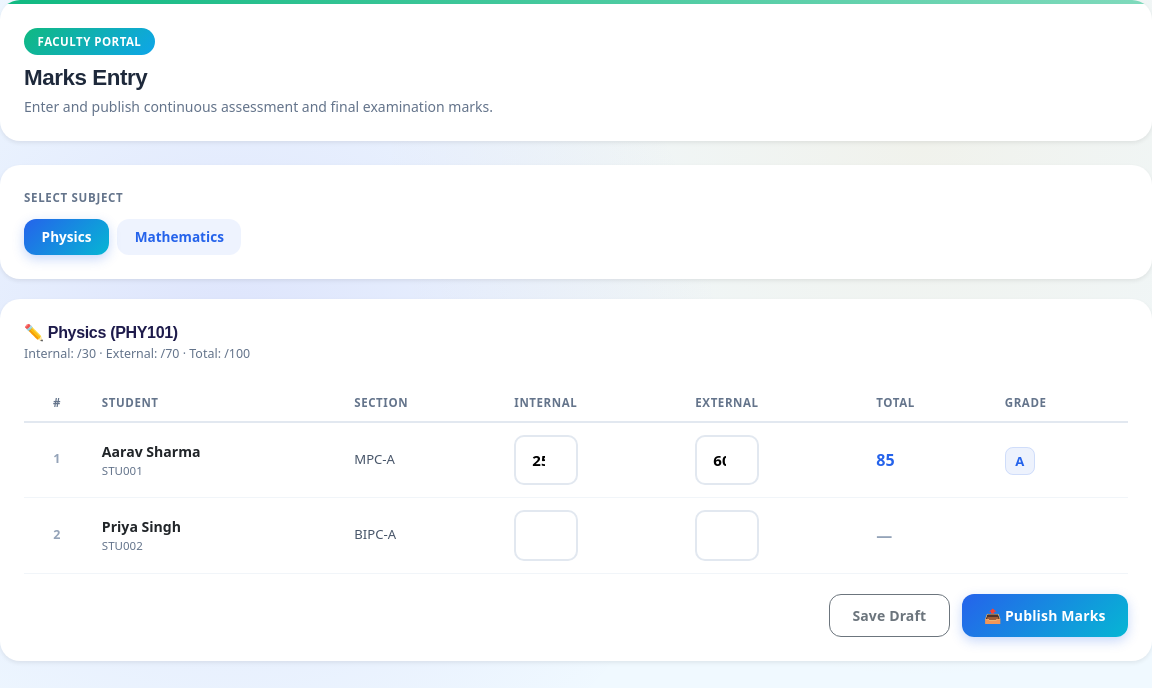
Test case: MarksEntry Component (Tier A Verified Flow) › saves marks draft via POST API
This screenshot has width=1152, height=688.
Expected: the table with test id "marks-table" is shown, 24,384 -> 1128,574
// Edit marks for Priya Singh
Type "28" into the number field named "Internal marks for Priya Singh". click: (546, 535)
box: 514,510 -> 578,560
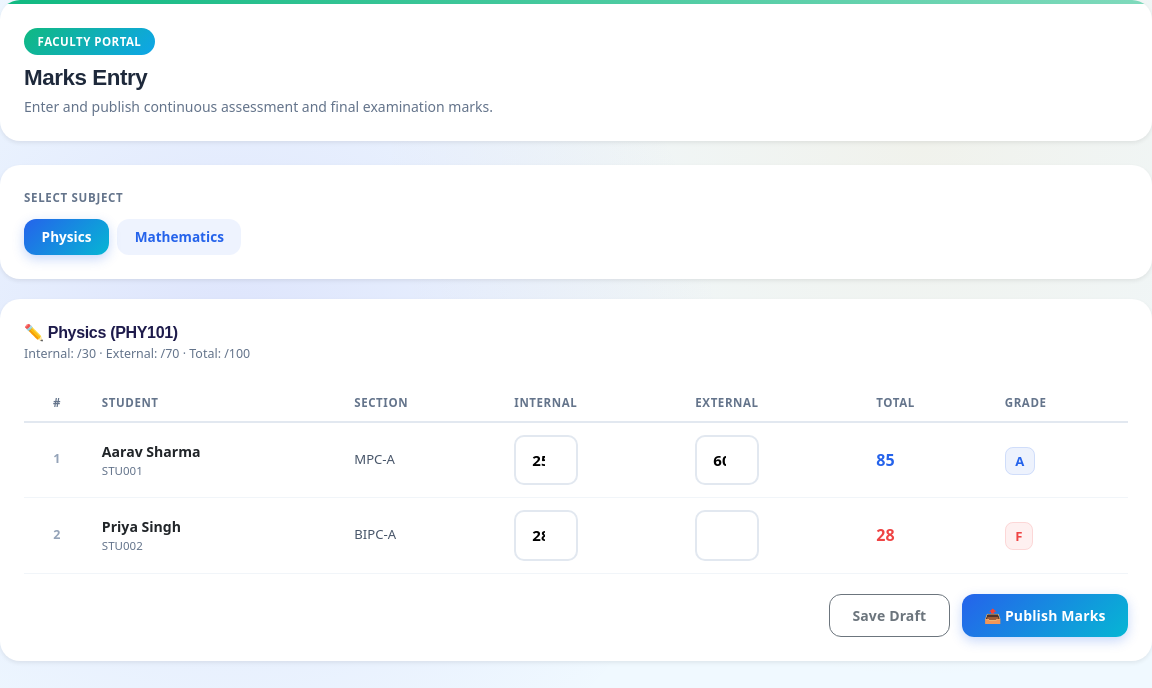
Click the button with test id "save-draft-btn". click: (889, 615)
box: 829,594 -> 950,637
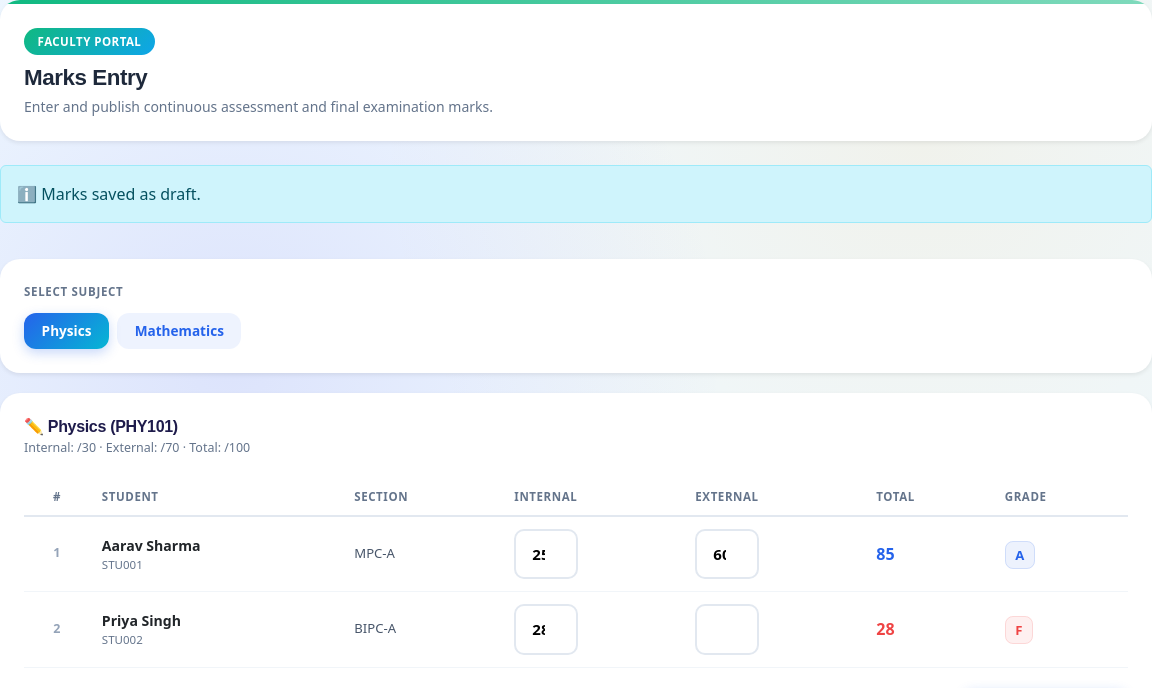
Result: the message with test id "marks-feedback" shows "Marks saved as draft" at 41,183 -> 201,205
